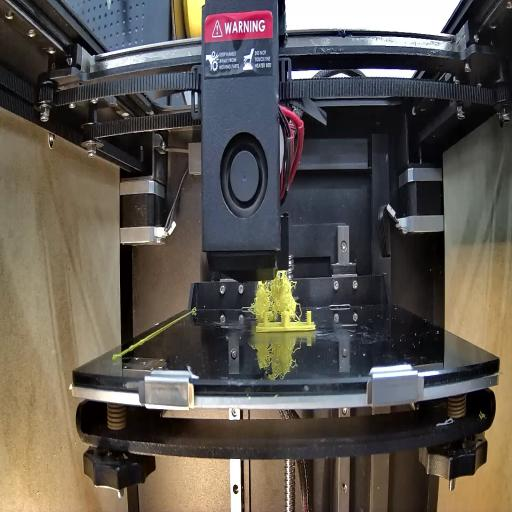spaghetti: (249, 276, 302, 321)
